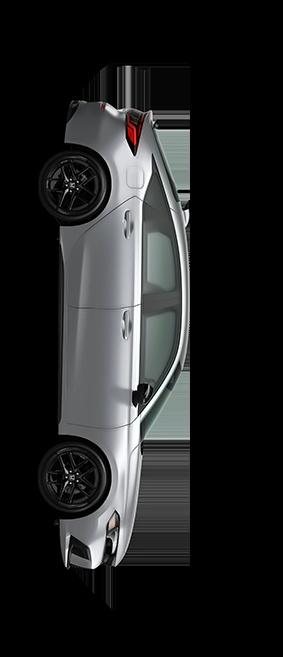Car hood: (117, 441, 149, 565)
Driver-s door - -F-R-: (43, 290, 198, 431)
Fender - -F-R-: (41, 411, 149, 506)
Fender - -R-R-: (39, 143, 164, 237)
Front bumper: (52, 505, 103, 577)
Headlight - -R-: (99, 509, 123, 573)
Passenger-s door - -R-L-: (38, 191, 196, 318)
Rear bumper: (53, 98, 130, 161)
Rear light - -R-: (121, 106, 146, 157)
Side bumper - -R-: (37, 219, 85, 439)
Side mirror - -R-: (125, 379, 153, 411)
